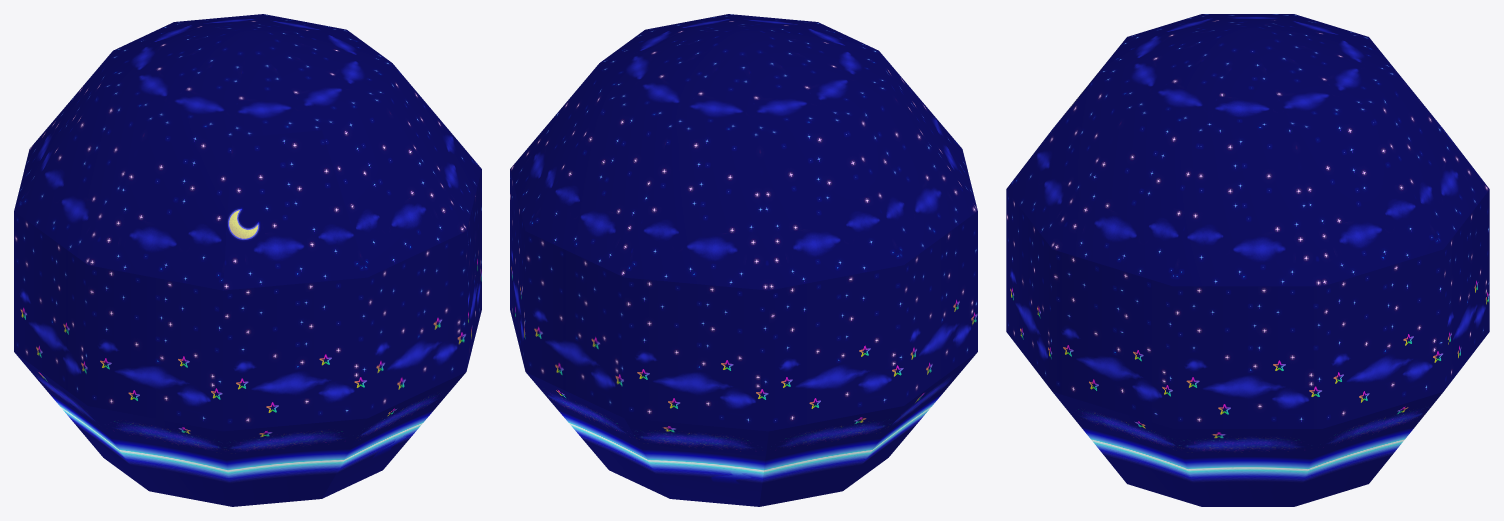
File: gba_rainbow_road.glb
3 views of the same model, side by side, from view 1: azimuth 30°, elevation 25°; view 2: azimuth 150°, elevation 25°; view 3: azimuth 270°, elevation 25° (orthographic).
Visible parts, largest first — view 1: rrgba.w.011, rrgba.w.015, rrgba.w.012, rrgba.w.013, rrgba.w.014; view 2: rrgba.w.011, rrgba.w.015, rrgba.w.012, rrgba.w.014; view 3: rrgba.w.011, rrgba.w.015, rrgba.w.012.
Part boxes in pixels (x1,y1,x2,y2): rrgba.w.011: (14, 14, 481, 290); rrgba.w.015: (14, 169, 481, 431); rrgba.w.012: (14, 352, 367, 506); rrgba.w.013: (223, 130, 367, 290); rrgba.w.014: (322, 372, 465, 498); rrgba.w.011: (510, 14, 977, 290); rrgba.w.015: (510, 169, 977, 431); rrgba.w.012: (526, 352, 977, 506); rrgba.w.014: (624, 418, 768, 506); rrgba.w.011: (1006, 14, 1489, 286); rrgba.w.015: (1006, 190, 1489, 428); rrgba.w.012: (1053, 392, 1442, 506).
Bounding box in the file's own units: 3334 × 3686 × 3506.
10 materials, 8 textured.
